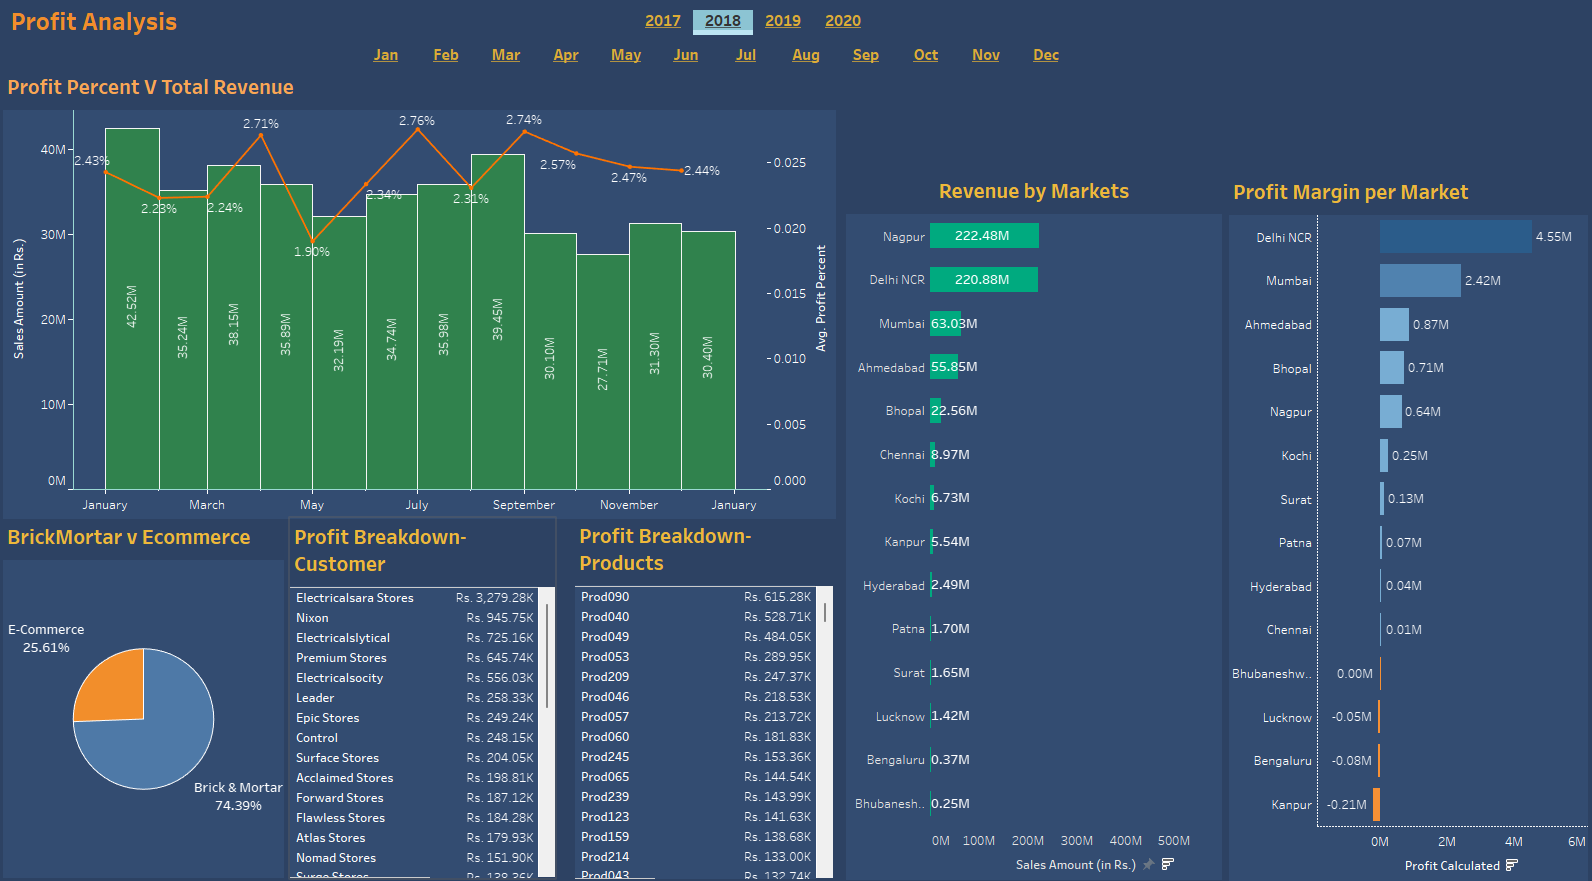

The dashboard page shown, as its layout file describes it:
{"tool":"tableau","page":{"name":"Profit Analysis","canvas":[1600,900],"ordinal":0},"visuals":[{"type":"title","box":[8,8,1584,41]},{"type":"worksheet","title":"Year (Dark Theme)","mark":"Automatic","cols":["cy_date"],"box":[637.2,17.6,454.5,28.1]},{"type":"worksheet","title":"Month (Dark Theme)","mark":"Automatic","cols":["cy_date"],"box":[359.6,51.6,870.3,35.2]},{"type":"worksheet","title":"Profit Percent V Total Revenue ","mark":"Bar","rows":["Calculation_381680116436762625","Calculation_461337535127736321"],"cols":["cy_date"],"box":[7,76.2,832.8,451.2]},{"type":"worksheet","title":"Revenue by Markets (Dark Theme) (2)","mark":"Automatic","rows":["markets_name"],"cols":["Calculation_381680116436762625"],"box":[850,180,376,708]},{"type":"worksheet","title":"Profit Margin per Market","mark":"Automatic","rows":["markets_name"],"cols":["Calculation_461337535127982083"],"box":[1233,181,359,708]},{"type":"worksheet","title":"Profit Breakdown-Products","mark":"Automatic","rows":["product_code (products)"],"box":[579,525,258,362]},{"type":"worksheet","title":"Profit Breakdown-Customer","mark":"Automatic","rows":["custmer_name"],"box":[294,526,265,360]},{"type":"worksheet","title":"BrickMortar v Ecommerce","mark":"Pie","box":[7,526.2,281.1,359.8]}]}

Visuals, with their boxes in screenshot pixels (x1, y1, x2, y2), scaled from the page's 1600x900 canvas onto the 1592x881 screenshot:
title: detection(8, 8, 1584, 48)
"Year (Dark Theme)" worksheet: detection(634, 17, 1086, 45)
"Month (Dark Theme)" worksheet: detection(358, 51, 1224, 85)
"Profit Percent V Total Revenue " worksheet (Bar marks): detection(7, 75, 836, 516)
"Revenue by Markets (Dark Theme) (2)" worksheet: detection(846, 176, 1220, 869)
"Profit Margin per Market" worksheet: detection(1227, 177, 1584, 870)
"Profit Breakdown-Products" worksheet: detection(576, 514, 833, 868)
"Profit Breakdown-Customer" worksheet: detection(293, 515, 556, 867)
"BrickMortar v Ecommerce" worksheet (Pie marks): detection(7, 515, 287, 867)
